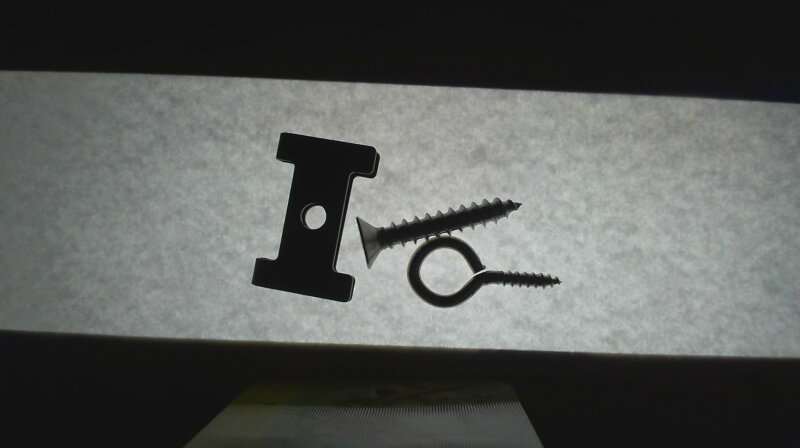O001: (403, 232, 564, 311)
O002: (247, 129, 383, 303)
S001: (354, 196, 527, 268)
